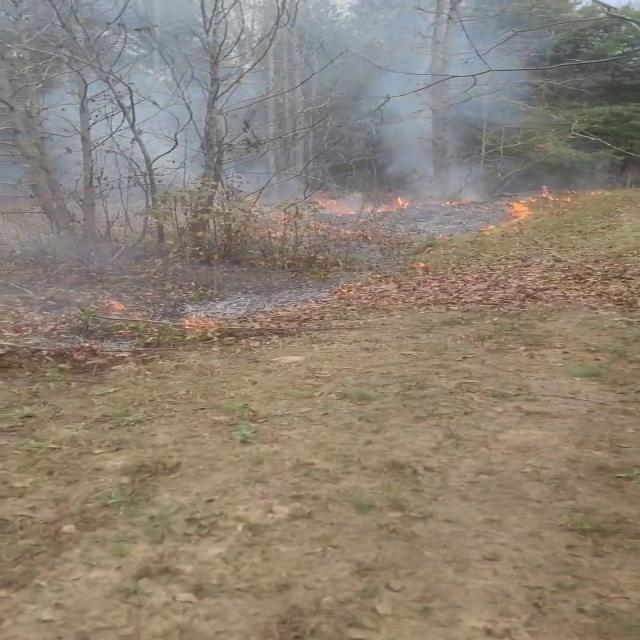Fire: (487, 189, 551, 228)
Smoke: (328, 0, 622, 224)
